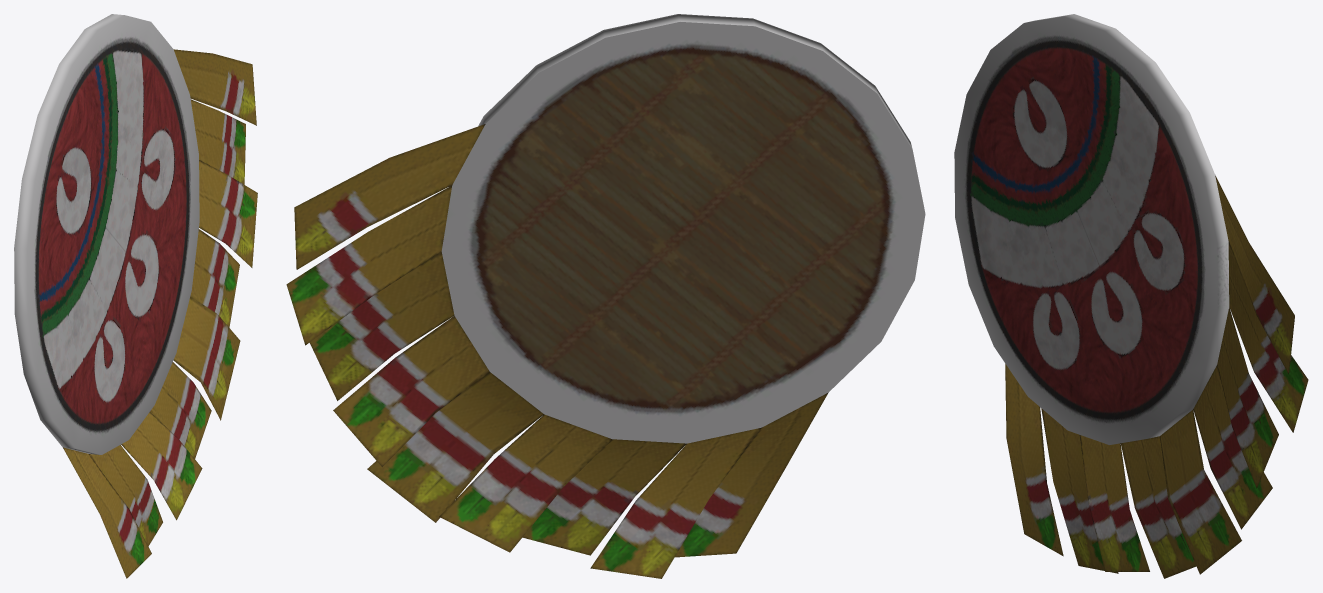
The model's file is shield-sacredshields.glb.
3 views of the same model, side by side, from view 1: azimuth 30°, elevation 25°; view 2: azimuth 150°, elevation 25°; view 3: azimuth 270°, elevation 25° (orthographic). The views are drawn at different scales.
Bounding box in the file's own units: 0.9124 × 1.14 × 0.6987.
1 material, 1 textured.
